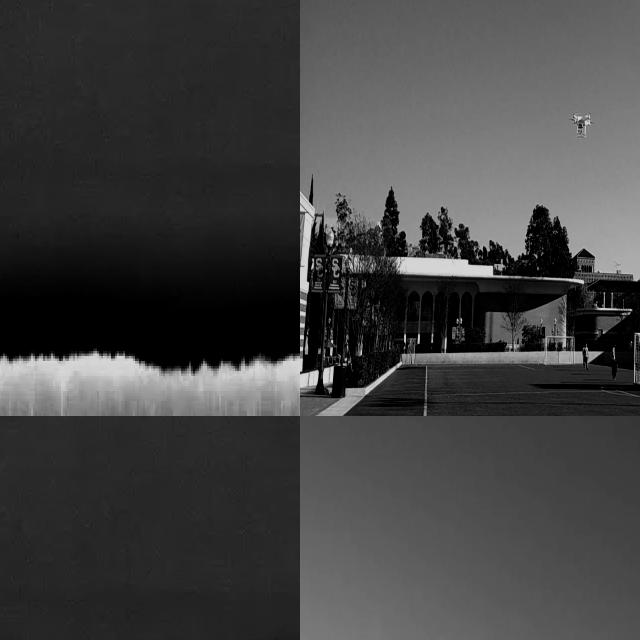drone: (572, 108, 594, 142)
